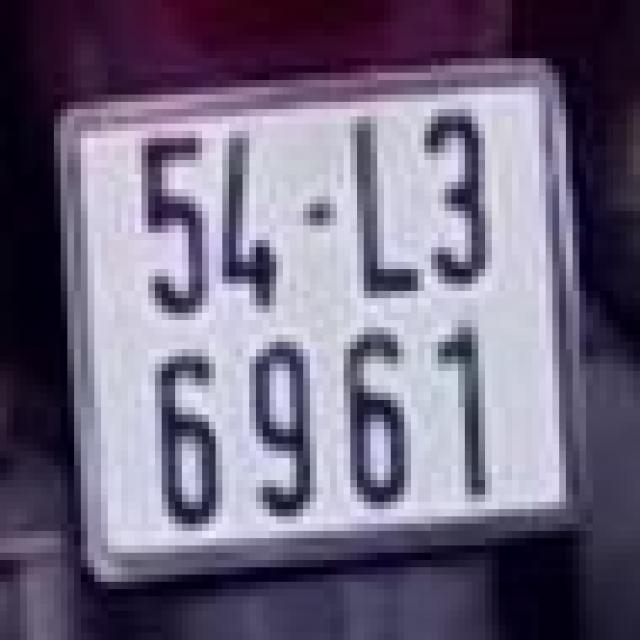1: (431, 316, 505, 513)
3: (418, 102, 498, 298)
4: (219, 124, 293, 320)
5: (131, 127, 219, 331)
6: (138, 342, 239, 531), (337, 327, 424, 524)
9: (246, 331, 327, 527)
L: (347, 109, 428, 306)
